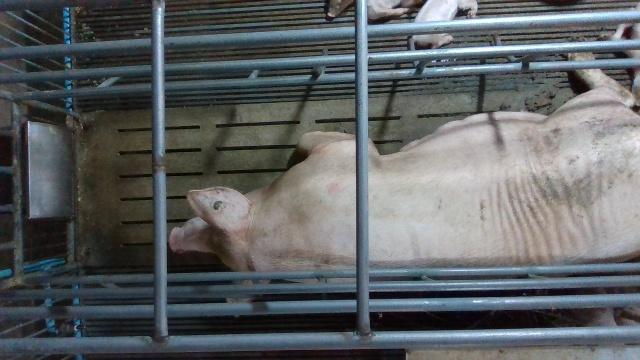piglet: (408, 0, 478, 50)
sow-sleep: (168, 53, 640, 281)
